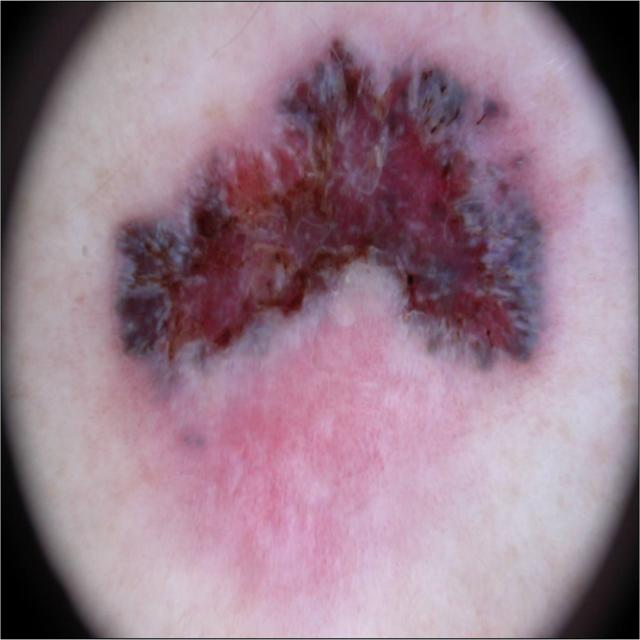Melanoma: (111, 30, 559, 401)
